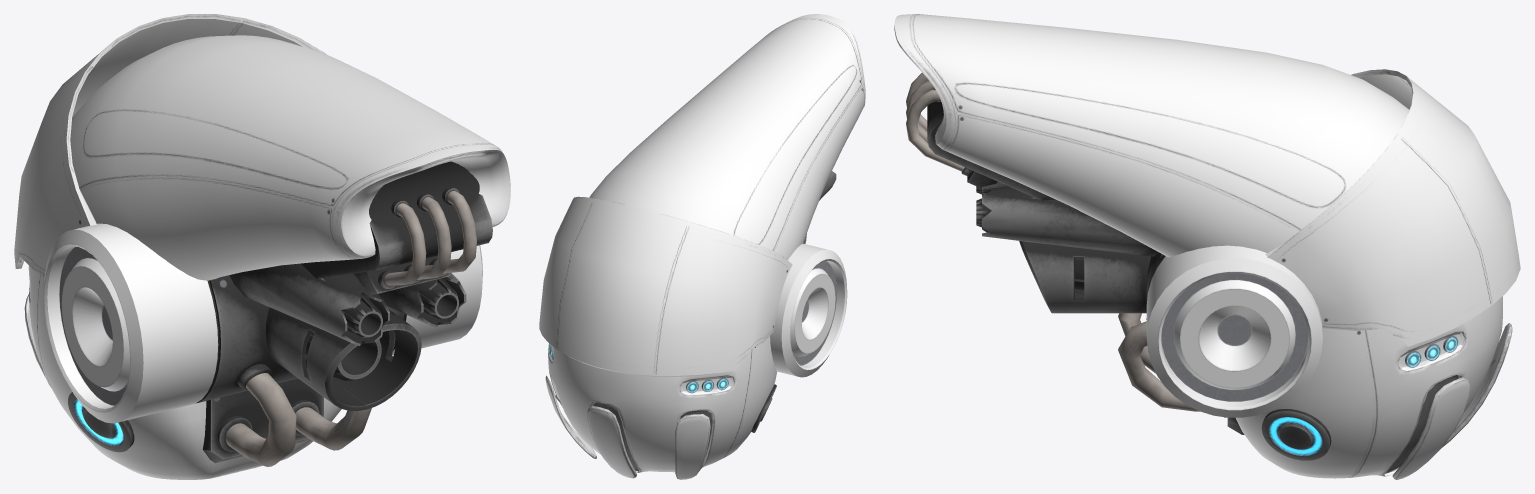
The picture shows the model from 3 angles, left to right: view 1: azimuth 30°, elevation 25°; view 2: azimuth 150°, elevation 25°; view 3: azimuth 270°, elevation 25°; orthographic projection. The views are drawn at different scales.
Parts seen in each view (by area): view 1: Body_Front, Body_Back; view 2: Body_Front, Body_Back; view 3: Body_Front, Body_Back.
Boxes of the visible parts, x1=… form: Body_Front: x1=14, y1=14, x2=510, y2=479; Body_Back: x1=44, y1=161, x2=492, y2=466; Body_Front: x1=539, y1=14, x2=865, y2=479; Body_Back: x1=770, y1=171, x2=847, y2=377; Body_Front: x1=894, y1=14, x2=1520, y2=479; Body_Back: x1=906, y1=72, x2=1322, y2=434.
Bounding box in the file's own units: 1.16 × 1.52 × 2.
2 materials, 2 textured.
